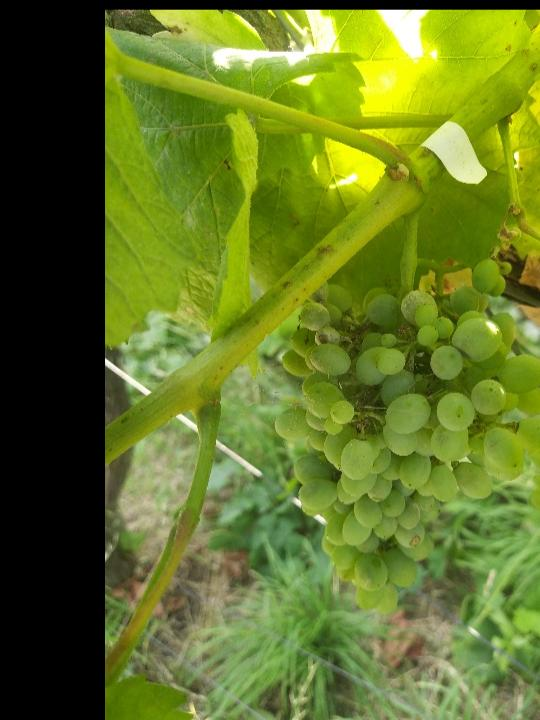grape: (268, 257, 540, 623)
